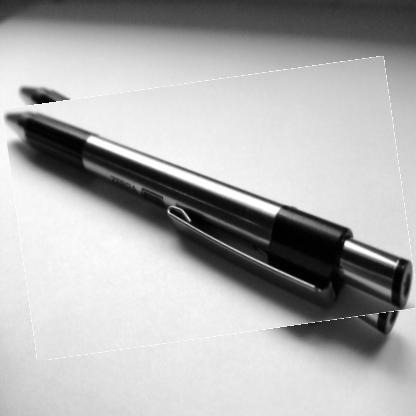Pen: (10, 70, 411, 348)
